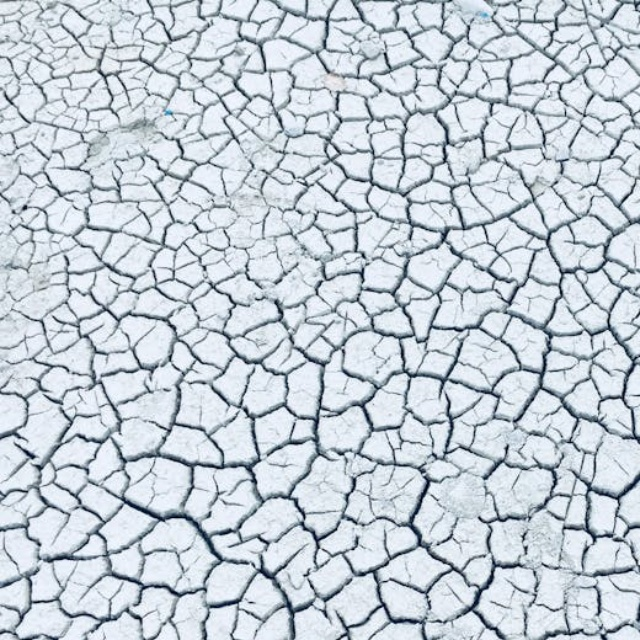网状裂隙: (0, 87, 640, 640), (0, 0, 640, 529), (318, 0, 640, 457), (168, 544, 629, 640)
